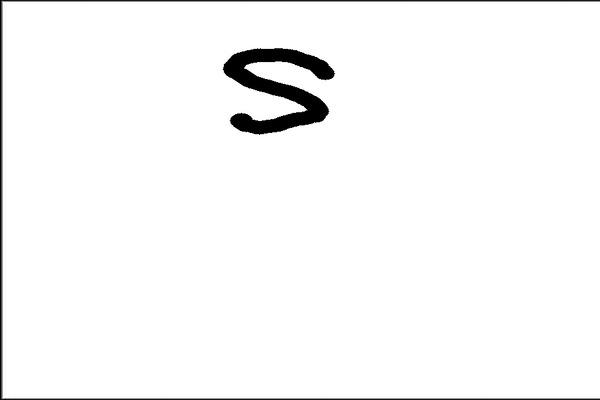S: (216, 41, 340, 138)
